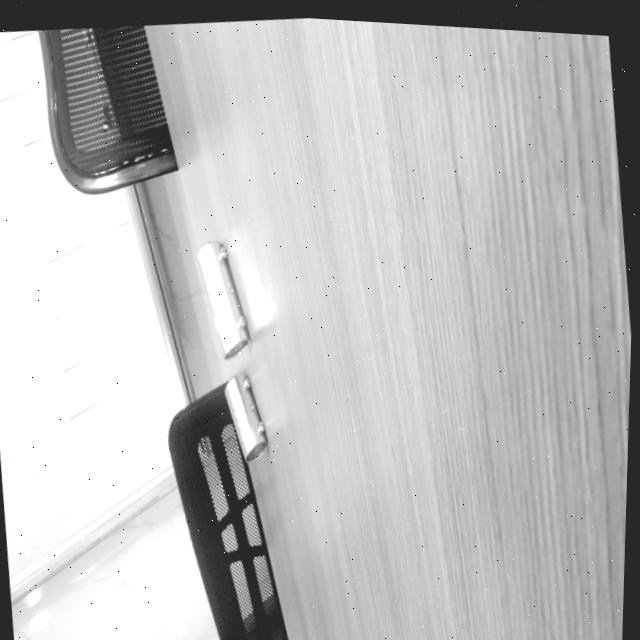Co_Lon: (192, 238, 254, 360)
Co_Nho: (219, 371, 273, 462)
